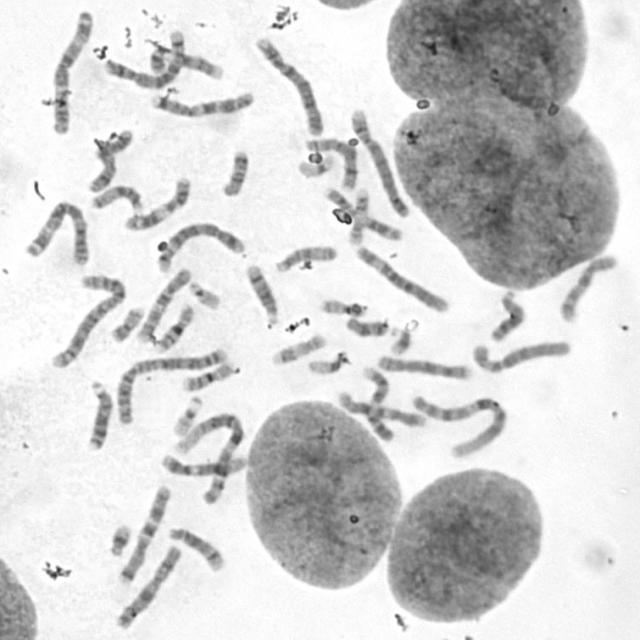A1: (170, 406, 248, 505), (405, 388, 510, 460)
A2: (113, 344, 231, 425), (45, 269, 127, 370)
A3: (46, 5, 96, 136), (21, 195, 92, 266)
B4: (252, 32, 327, 138), (346, 103, 413, 220)
B5: (99, 25, 187, 91), (154, 217, 246, 275)
C10: (555, 249, 621, 324), (133, 263, 193, 344)
C11: (320, 184, 402, 242), (120, 173, 193, 233)
C12: (332, 386, 428, 429), (156, 449, 249, 478)
C6: (352, 241, 452, 314), (467, 335, 572, 374)
C7: (112, 479, 173, 586), (148, 85, 258, 120)
C8: (302, 133, 362, 192), (372, 350, 475, 381)
C9: (358, 361, 398, 444), (144, 43, 226, 81)
D13: (83, 376, 115, 452), (487, 286, 528, 343)
D14: (165, 524, 227, 572), (241, 259, 281, 325)
D15: (270, 240, 339, 274), (86, 180, 146, 215)
E16: (149, 298, 197, 353), (178, 357, 238, 392)
E17: (268, 329, 329, 366), (344, 183, 371, 247)
E18: (218, 146, 251, 198), (342, 313, 392, 338)
F19: (304, 347, 352, 377), (292, 148, 336, 180)
F20: (107, 301, 147, 343), (316, 294, 369, 317)
G21: (105, 519, 134, 558), (386, 322, 414, 356)
G22: (170, 391, 206, 437), (185, 276, 223, 312)
X: (110, 541, 183, 631), (84, 124, 135, 193)
